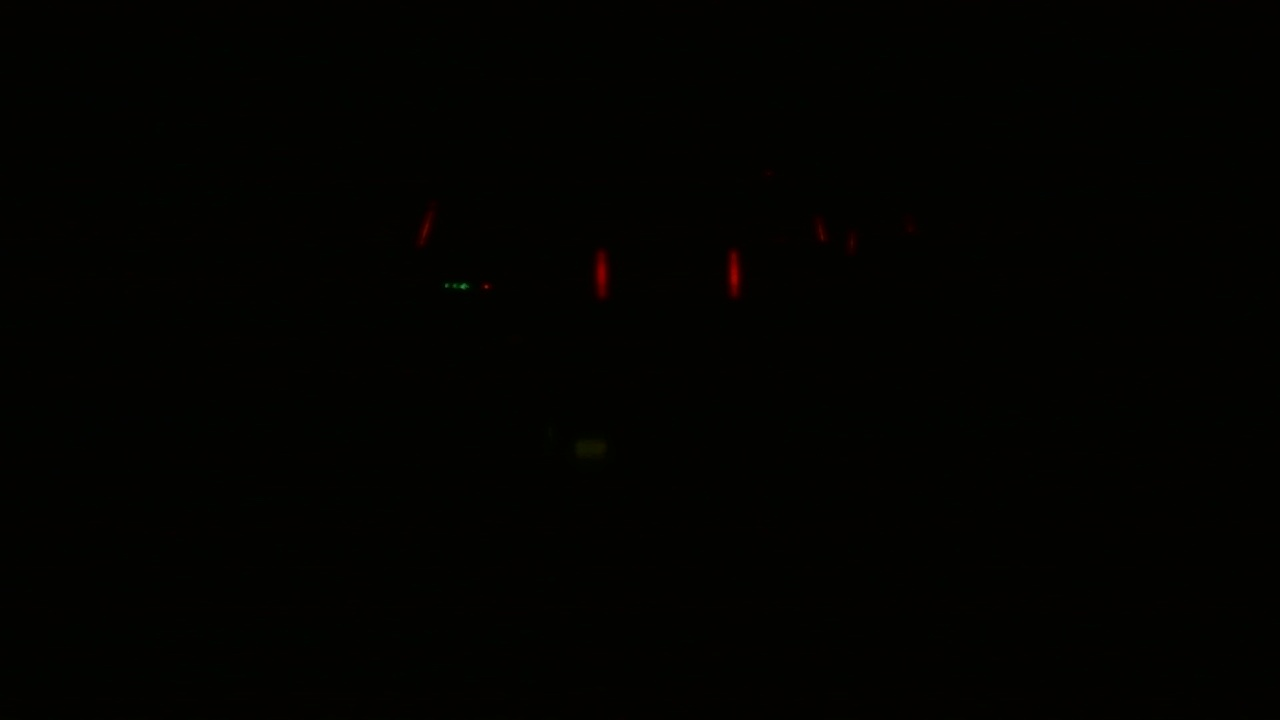pair1: (590, 243, 741, 300)
